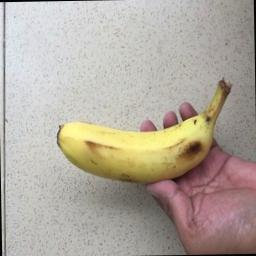Banana Ripe: (45, 80, 256, 200)
